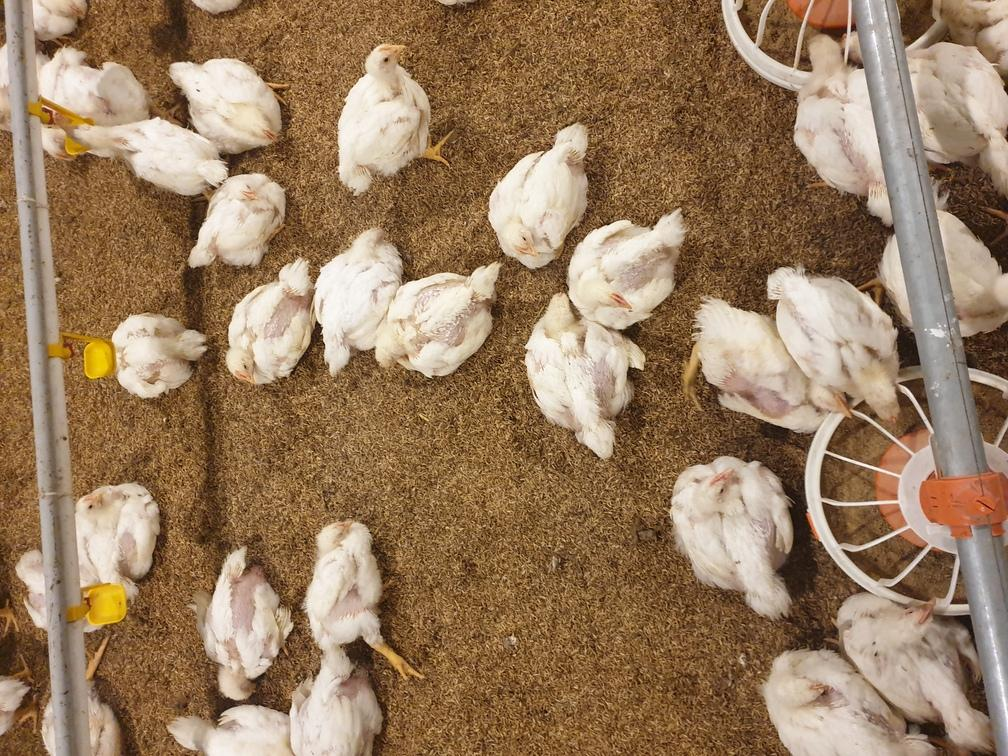Pollos: (759, 267, 911, 422), (672, 456, 803, 607), (337, 38, 448, 189), (769, 651, 919, 756), (523, 304, 621, 458), (370, 262, 507, 371), (849, 587, 973, 705), (491, 120, 596, 257), (205, 542, 292, 697), (574, 201, 686, 319), (322, 221, 399, 367), (301, 519, 381, 655), (224, 267, 313, 387), (175, 56, 290, 148), (192, 167, 287, 266), (108, 310, 215, 392), (84, 472, 154, 588)
